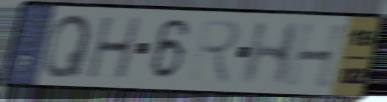6: (146, 17, 194, 83)
H: (282, 21, 351, 91), (238, 20, 305, 87), (83, 14, 145, 82)
Q: (41, 12, 95, 81)
R: (186, 16, 244, 87)
